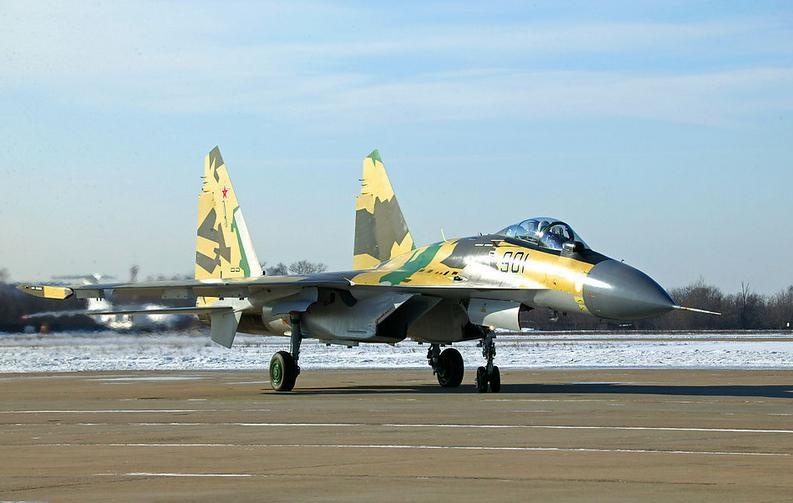airplane: (14, 148, 737, 392)
